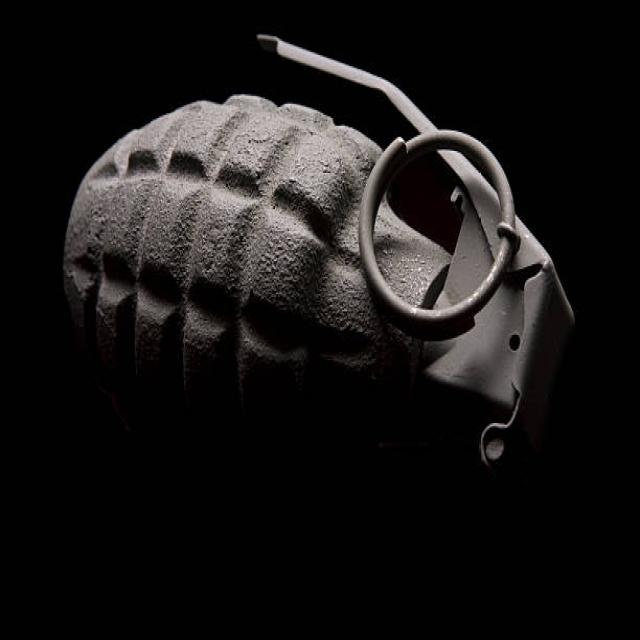grenade: (64, 32, 582, 476)
